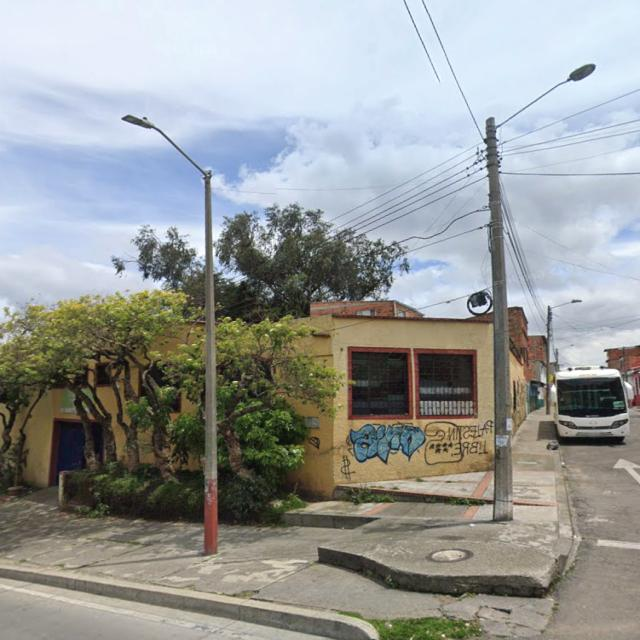fachada: (294, 302, 493, 497), (605, 346, 639, 406)
poste: (485, 118, 512, 521), (202, 171, 217, 554), (545, 306, 551, 414)
